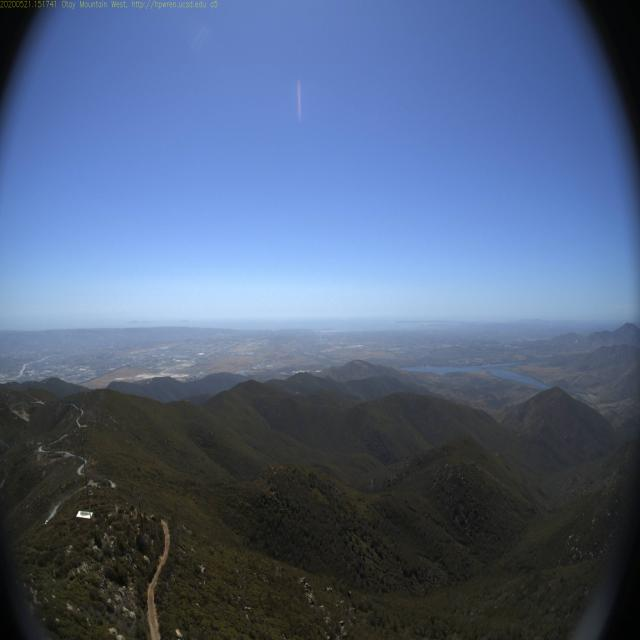smoke: (546, 317, 556, 331)
